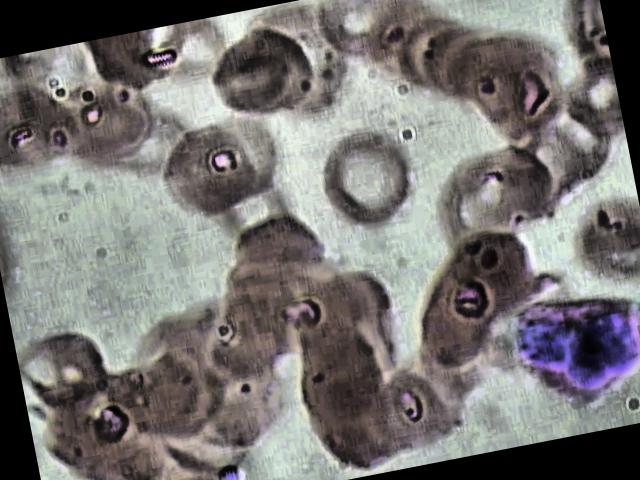Platelets: (213, 457, 249, 480)
RBC: (97, 332, 215, 454), (48, 74, 169, 192), (398, 253, 514, 374), (12, 309, 128, 430), (200, 20, 320, 136), (183, 346, 297, 466), (307, 125, 421, 244), (199, 107, 313, 226), (223, 194, 337, 313), (150, 118, 264, 236), (370, 6, 480, 105), (414, 19, 524, 118), (442, 34, 552, 133), (464, 45, 574, 144), (426, 157, 536, 256), (458, 143, 568, 242), (490, 124, 600, 222), (0, 82, 87, 199), (370, 362, 470, 458), (197, 304, 296, 400), (341, 0, 451, 84), (302, 0, 412, 79), (554, 198, 640, 294)
WBC: (506, 274, 640, 422)
